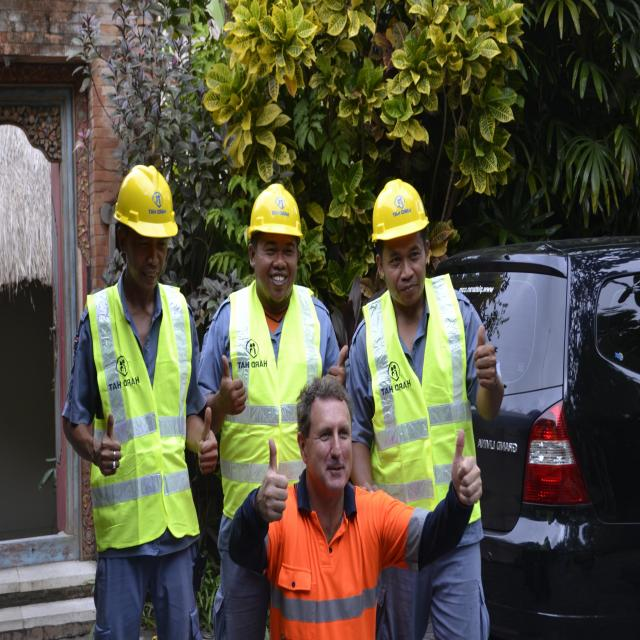Reflective-Jacket: (82, 280, 200, 552), (361, 279, 484, 523), (217, 282, 324, 520)
Safety-Helmet: (111, 159, 180, 239), (368, 174, 431, 242), (245, 178, 305, 242)
